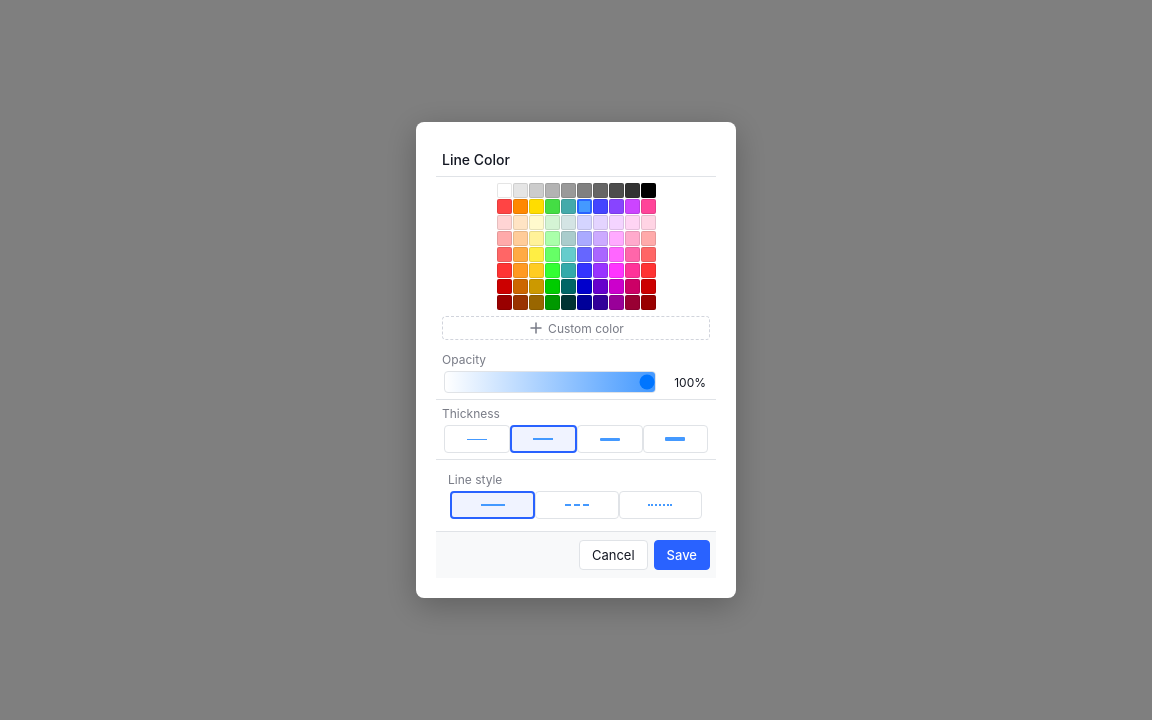
Test: LineEditorDialog › should open color picker when custom color button is clicked
The width and height of the screenshot is (1152, 720).
Click the button "Custom color" at (576, 328), box left=442, top=316, right=710, bottom=340
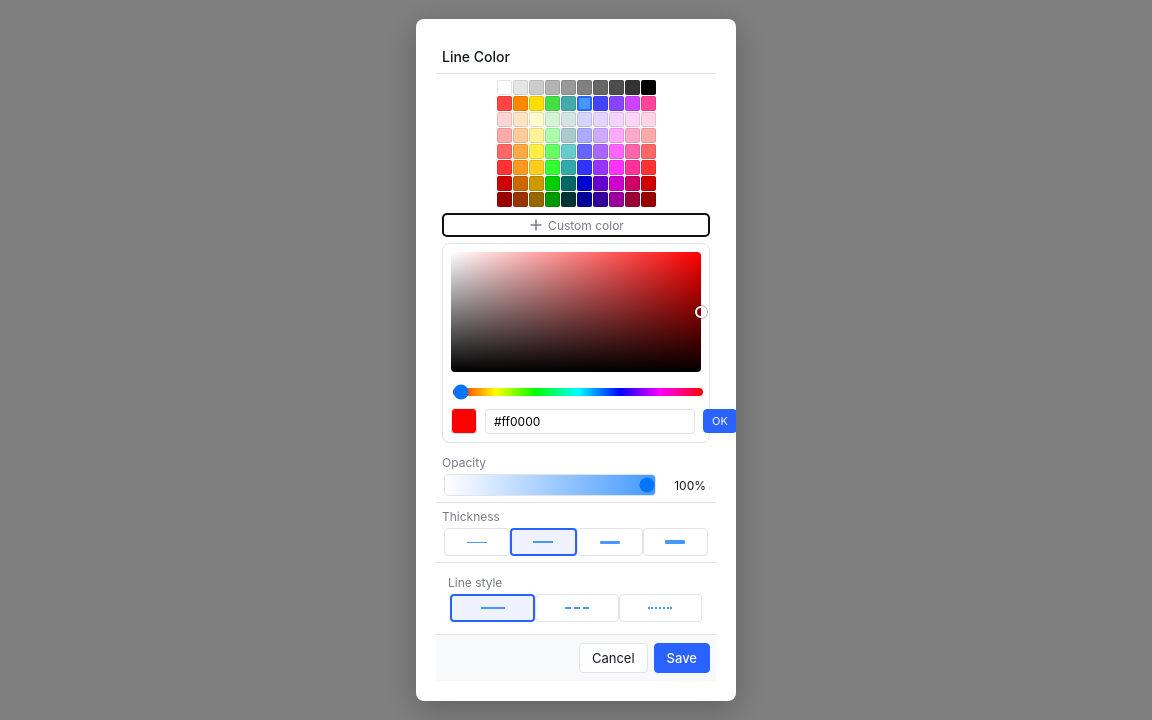
Result: the button "OK" is shown at left=703, top=409, right=736, bottom=433
Result: the 1st field showing "#ff0000" is shown at left=485, top=408, right=695, bottom=434
